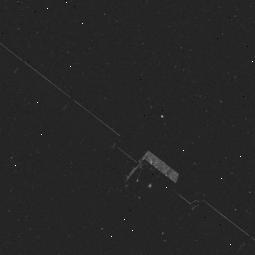smart_1: (95, 102, 229, 247)
